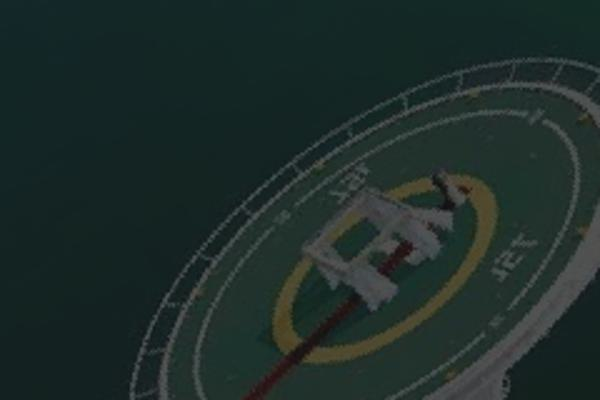Apron: (291, 178, 480, 362)
